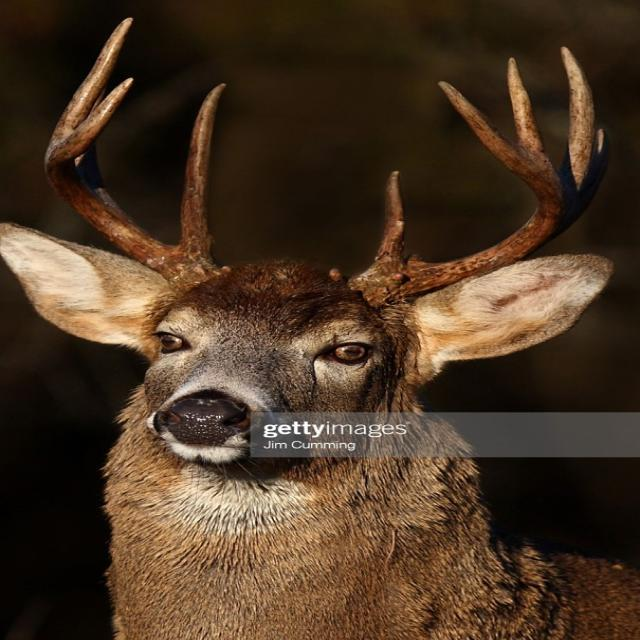L-F: (339, 79, 577, 310)
L-G1: (365, 171, 406, 273)
R-F: (44, 76, 226, 295)
R-G1: (175, 82, 227, 263)
